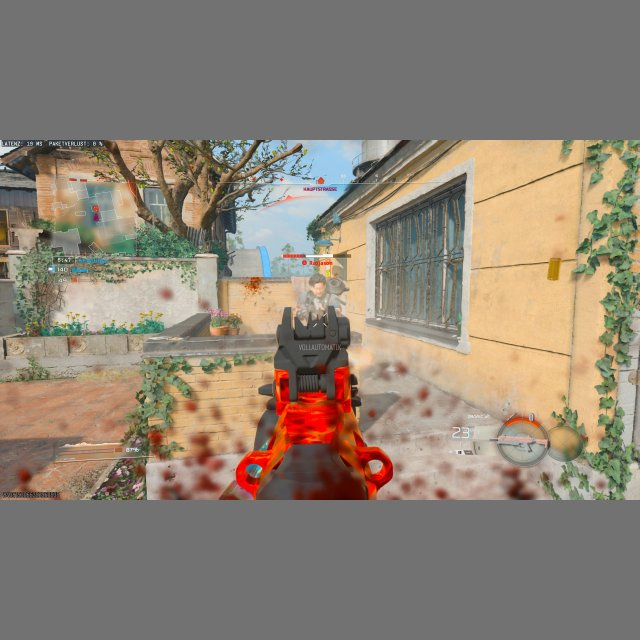head: (308, 274, 326, 296)
player: (298, 273, 347, 322)
